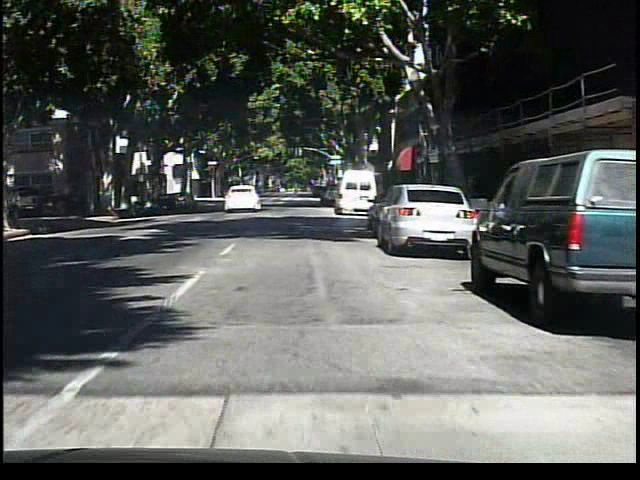person: (289, 175, 305, 205)
